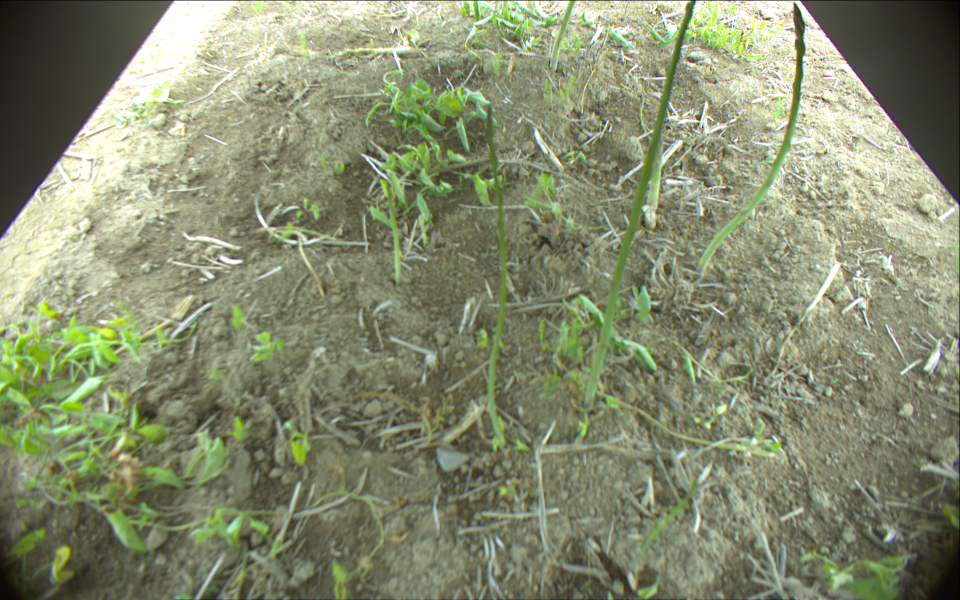aspa: (583, 1, 696, 409), (696, 3, 805, 272), (486, 104, 511, 448), (387, 174, 404, 283), (549, 1, 576, 69), (333, 47, 423, 59), (647, 137, 662, 208)
